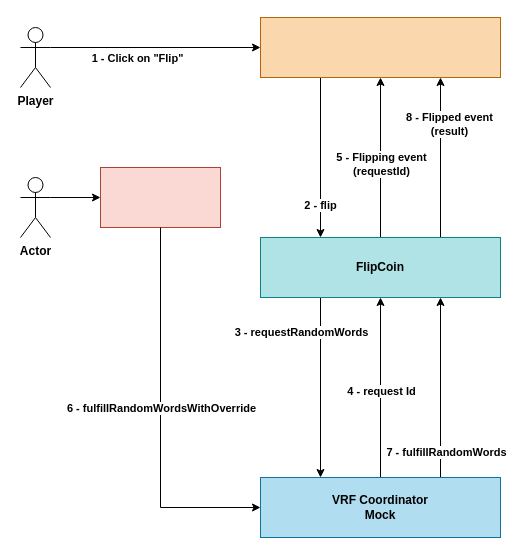
The diagram is 523 pixels wide and 555 high, and some of its shapes have lost their labels. The centre of each missing label's shape, as x and y in pixels:
"App" goes at [380,47].
"fulfill VRF script" goes at [160,197].
